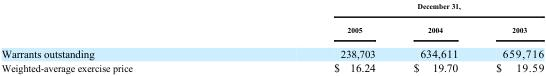table: (0, 1, 543, 73)
table column: (0, 1, 232, 73), (232, 1, 393, 73), (393, 1, 476, 73), (476, 1, 543, 73)
table column header: (0, 1, 543, 40)
table row: (0, 17, 543, 40), (0, 40, 543, 60), (0, 1, 543, 17), (0, 60, 543, 73)
table spanning cell: (232, 1, 543, 17)
